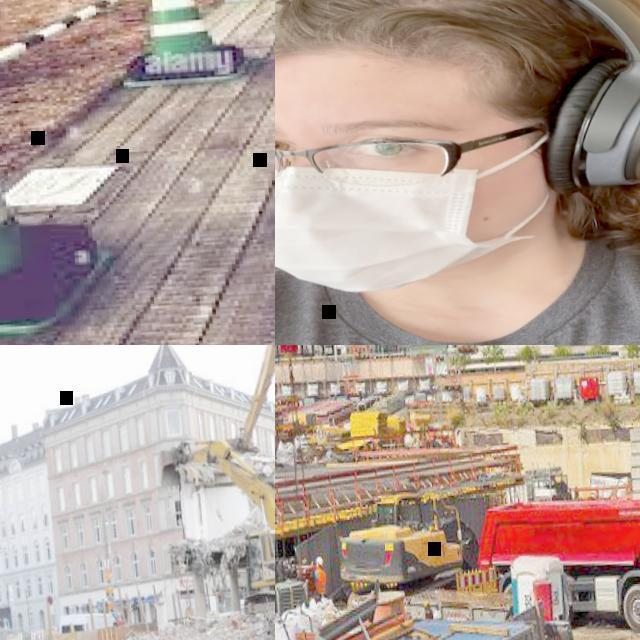helmet: (316, 556, 324, 564)
vest: (316, 568, 326, 594)
